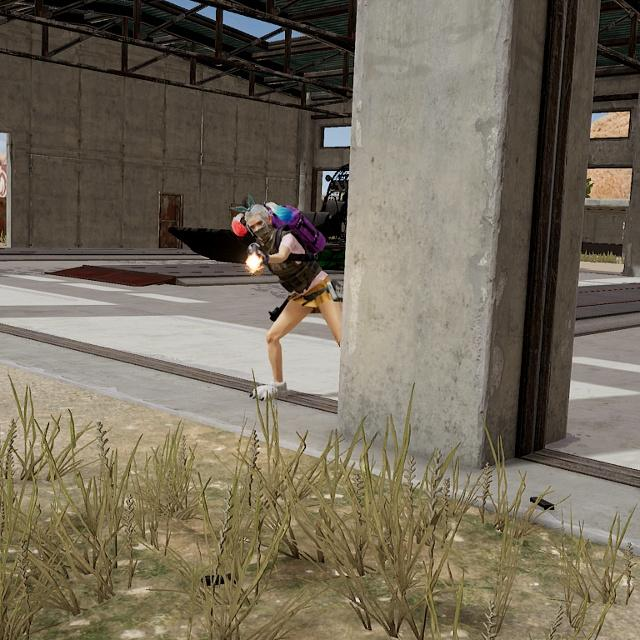head: (242, 199, 278, 247)
people: (227, 196, 339, 412)
